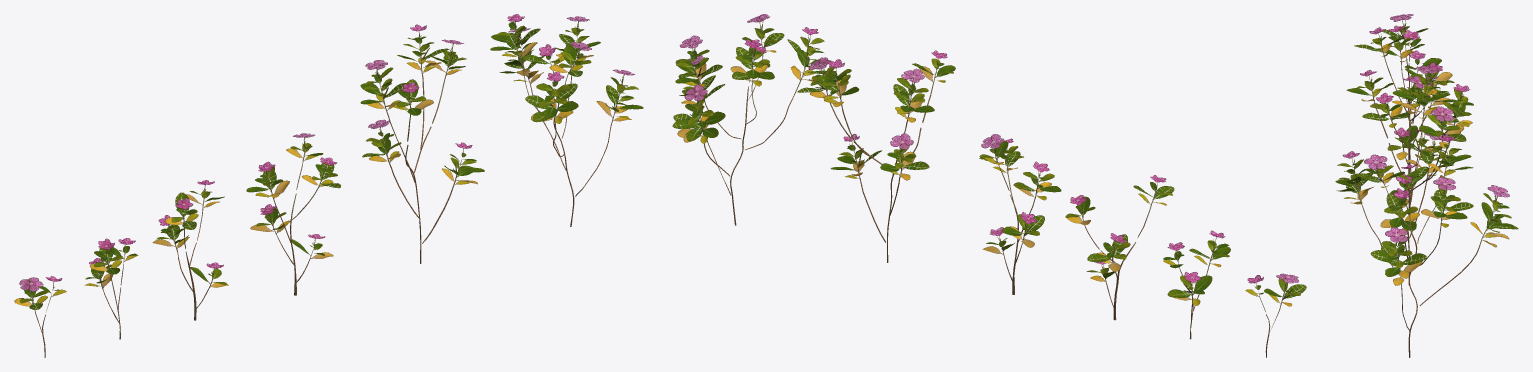
Rendered from periwinkle.glb.
The picture shows the model from 3 angles, left to right: view 1: azimuth 30°, elevation 25°; view 2: azimuth 150°, elevation 25°; view 3: azimuth 270°, elevation 25°; orthographic projection.
Visible parts, largest first — view 1: periwinkle_plant_01_LOD0, periwinkle_plant_02_LOD0, periwinkle_plant_03_LOD0, periwinkle_plant_04_LOD0, periwinkle_plant_05_LOD0, periwinkle_plant_06_LOD0; view 2: periwinkle_plant_01_LOD0, periwinkle_plant_02_LOD0, periwinkle_plant_03_LOD0, periwinkle_plant_04_LOD0, periwinkle_plant_05_LOD0, periwinkle_plant_06_LOD0; view 3: periwinkle_plant_01_LOD0, periwinkle_plant_02_LOD0, periwinkle_plant_03_LOD0, periwinkle_plant_04_LOD0, periwinkle_plant_05_LOD0, periwinkle_plant_06_LOD0.
Boxes of the visible parts, box(x1,y1,x2,y2) form: periwinkle_plant_01_LOD0: box(490, 14, 643, 226); periwinkle_plant_02_LOD0: box(360, 24, 484, 263); periwinkle_plant_03_LOD0: box(246, 133, 340, 295); periwinkle_plant_04_LOD0: box(152, 180, 228, 320); periwinkle_plant_05_LOD0: box(85, 238, 138, 339); periwinkle_plant_06_LOD0: box(14, 276, 66, 357); periwinkle_plant_01_LOD0: box(672, 14, 831, 225); periwinkle_plant_02_LOD0: box(797, 50, 955, 262); periwinkle_plant_03_LOD0: box(979, 134, 1061, 294); periwinkle_plant_04_LOD0: box(1065, 175, 1174, 320); periwinkle_plant_05_LOD0: box(1163, 230, 1230, 339); periwinkle_plant_06_LOD0: box(1245, 273, 1306, 357); periwinkle_plant_01_LOD0: box(1335, 134, 1518, 357); periwinkle_plant_02_LOD0: box(1346, 65, 1473, 284); periwinkle_plant_03_LOD0: box(1362, 76, 1440, 209); periwinkle_plant_04_LOD0: box(1354, 27, 1455, 173); periwinkle_plant_05_LOD0: box(1377, 25, 1454, 123); periwinkle_plant_06_LOD0: box(1381, 14, 1428, 104).
Bounding box in the file's own units: 1.23 × 0.4085 × 0.3194.
1 material, 1 textured.
